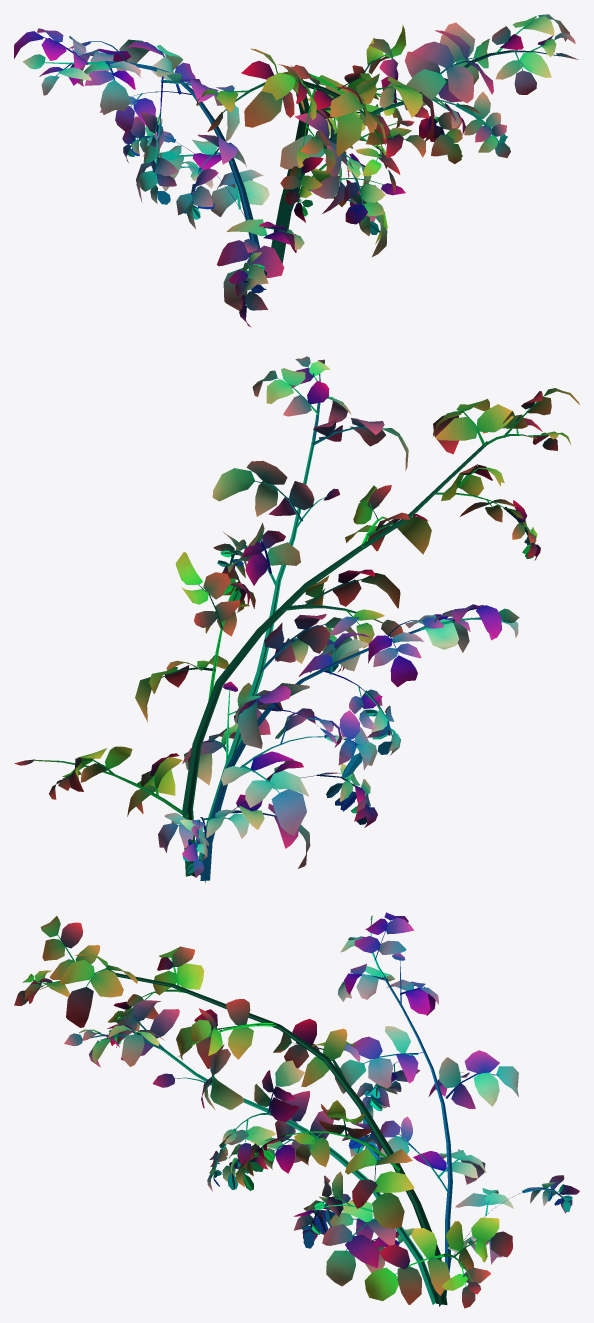
The model's file is Raspberry_wf0oefeja_High_wf0oefeja_VarH_LOD1.fbx.
The picture shows the model from 3 angles, top to bottom: view 1: azimuth 30°, elevation 25°; view 2: azimuth 150°, elevation 25°; view 3: azimuth 270°, elevation 25°; orthographic projection. The views are drawn at different scales.
Visible parts, largest first — view 1: _r44c_VarH_LOD2; view 2: _r44c_VarH_LOD2; view 3: _r44c_VarH_LOD2.
Part boxes in pixels (<box>): _r44c_VarH_LOD2: <box>14,14,578,327</box>; _r44c_VarH_LOD2: <box>14,356,579,882</box>; _r44c_VarH_LOD2: <box>14,912,579,1308</box>.
Size of the model in its own units: 65.87 by 51.85 by 81.87.
